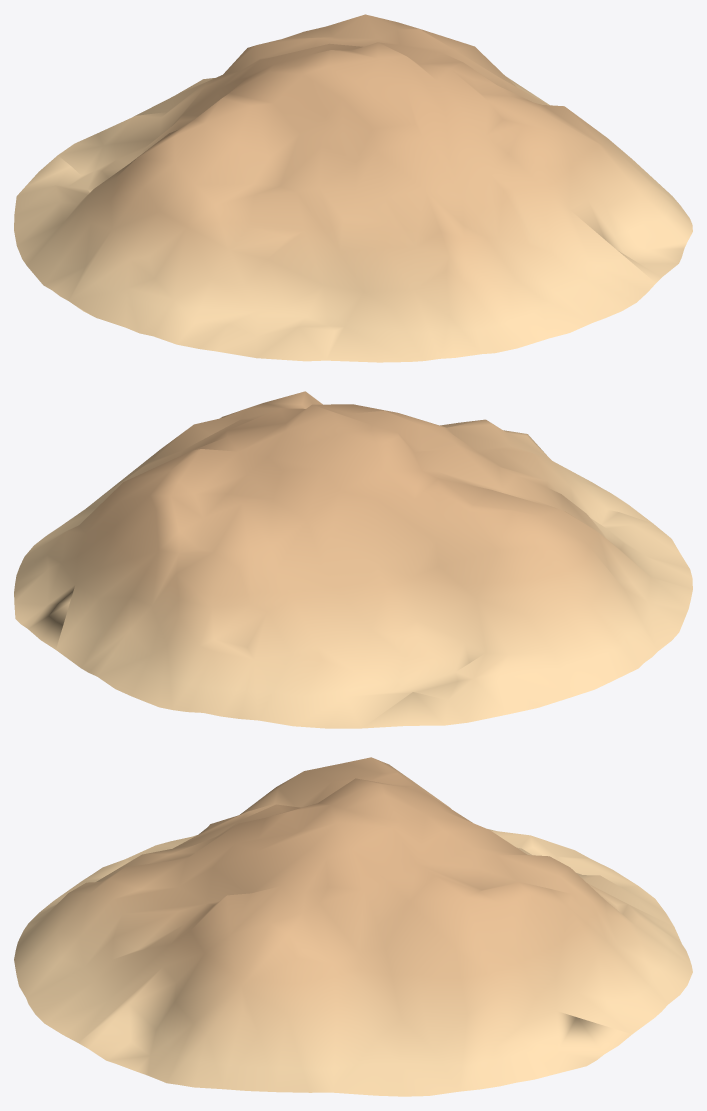
File: Terrain 1.glb
3 renders of one model, top to bottom at view 1: azimuth 30°, elevation 25°; view 2: azimuth 150°, elevation 25°; view 3: azimuth 270°, elevation 25°, orthographic.
Parts seen in each view (by area): view 1: Terrain1; view 2: Terrain1; view 3: Terrain1.
Boxes of the visible parts, left/top/right/bottom form: Terrain1: left=14, top=14, right=692, bottom=362; Terrain1: left=14, top=391, right=692, bottom=728; Terrain1: left=14, top=757, right=692, bottom=1096.
Size of what is drawn, in the model's own units: 13.8 by 3.78 by 14.16.
1 material, 1 textured.
